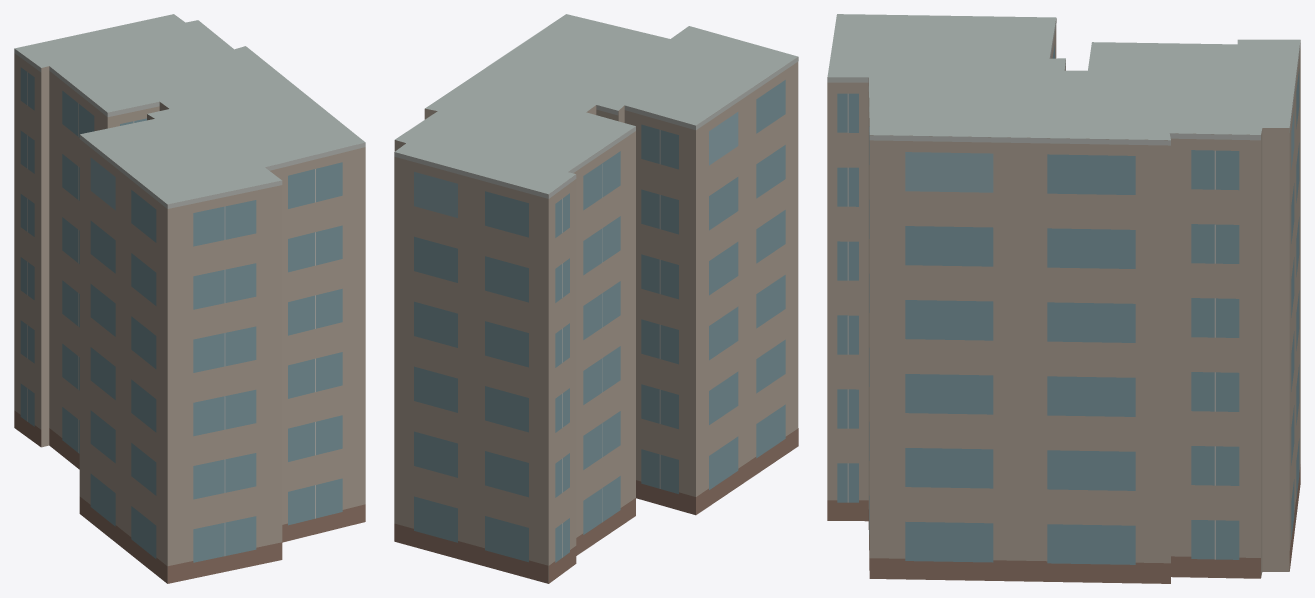
File: survey-upis-32482835.glb
3 renders of one model, left to right at view 1: azimuth 30°, elevation 25°; view 2: azimuth 150°, elevation 25°; view 3: azimuth 270°, elevation 25°, orthographic. The views are drawn at different scales.
Visible parts, largest first — view 1: survey-upis-32482835.tmp; view 2: survey-upis-32482835.tmp; view 3: survey-upis-32482835.tmp.
Part boxes in pixels (left/top/right/bottom): survey-upis-32482835.tmp: left=14, top=14, right=365, bottom=583; survey-upis-32482835.tmp: left=394, top=14, right=798, bottom=583; survey-upis-32482835.tmp: left=827, top=14, right=1300, bottom=583.
Size of the model in its own units: 12.33 by 20.2 by 19.53.
